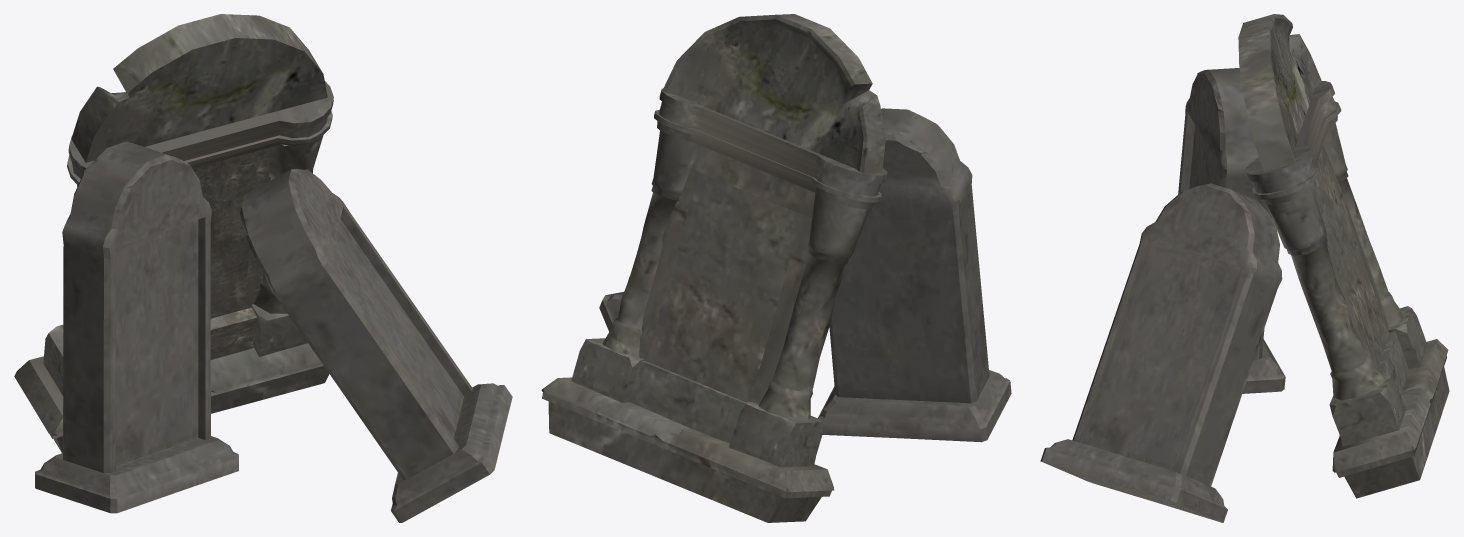
File: AEG004_593-transformed.glb
3 renders of one model, left to right at view 1: azimuth 30°, elevation 25°; view 2: azimuth 150°, elevation 25°; view 3: azimuth 270°, elevation 25°, orthographic. The views are drawn at different scales.
Visible parts, largest first — view 1: default; view 2: default; view 3: default.
Boxes of the visible parts, x1,y1,x2,y2 form: default: (14,14,512,522); default: (541,14,1011,522); default: (1040,14,1449,522).
Bounding box in the file's own units: 1.9 × 1.91 × 1.67.
1 material, 1 textured.
